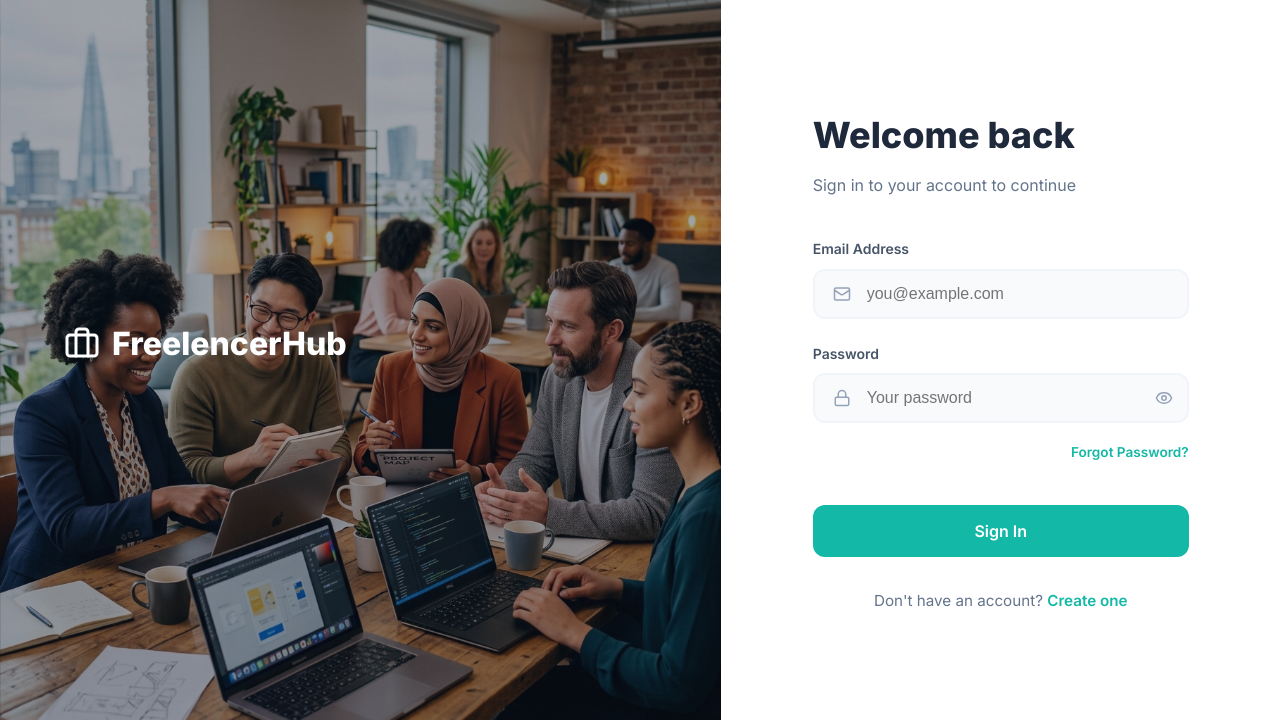
it: Login Component › shows error on login failure
Type "test@test.com" into the field labelled "Email Address". click: x=1001, y=294
box: [813,269,1189,319]
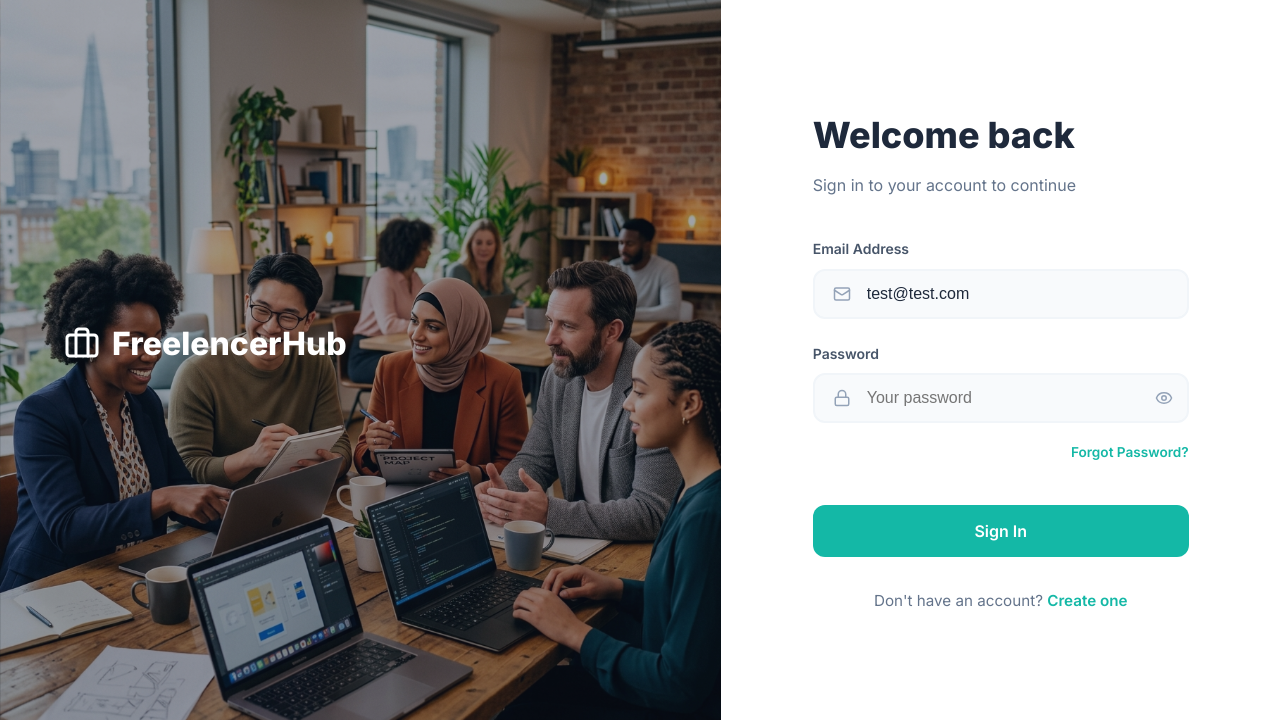
Type "wrongpass" into the password field labelled "Password". click: x=1001, y=398
box: [813,373,1189,423]
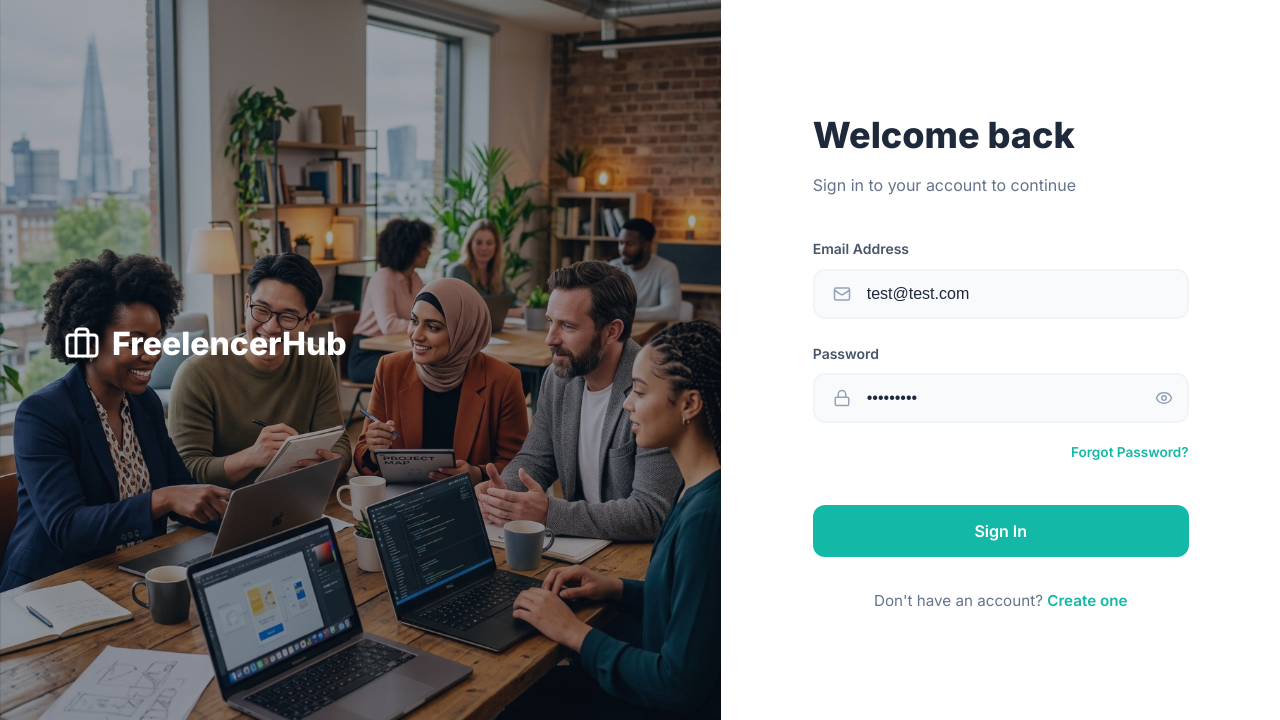
Click the button "Sign In". click: x=1001, y=531
box: [813,505,1189,557]
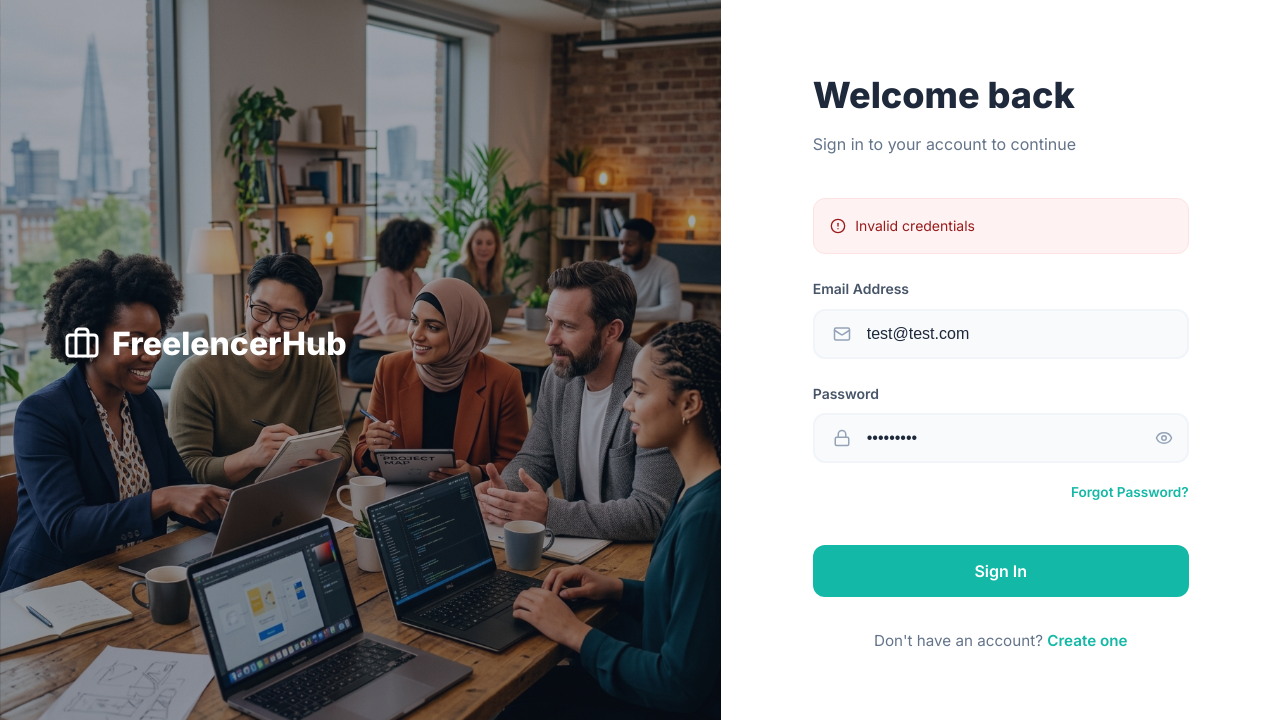
Check: the text "Invalid credentials" is shown, box [855,215,975,237]
